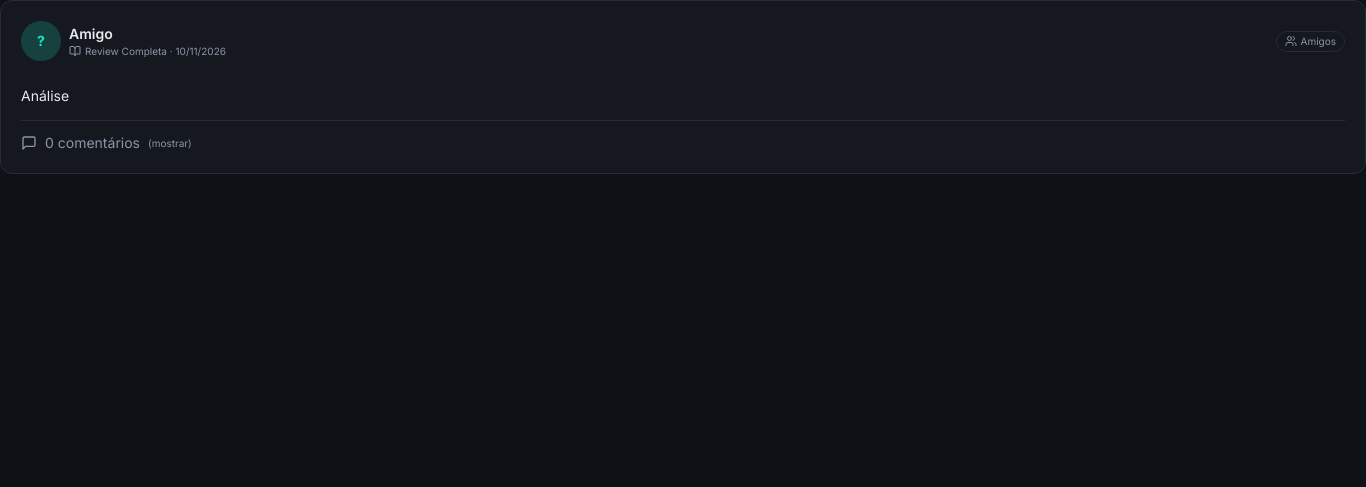
Test: complete-review reply targets › writes replies to the complete review and reloads the nested reply
Click the button "0 comentários (mostrar)" at [106, 143], box [21, 133, 192, 153]
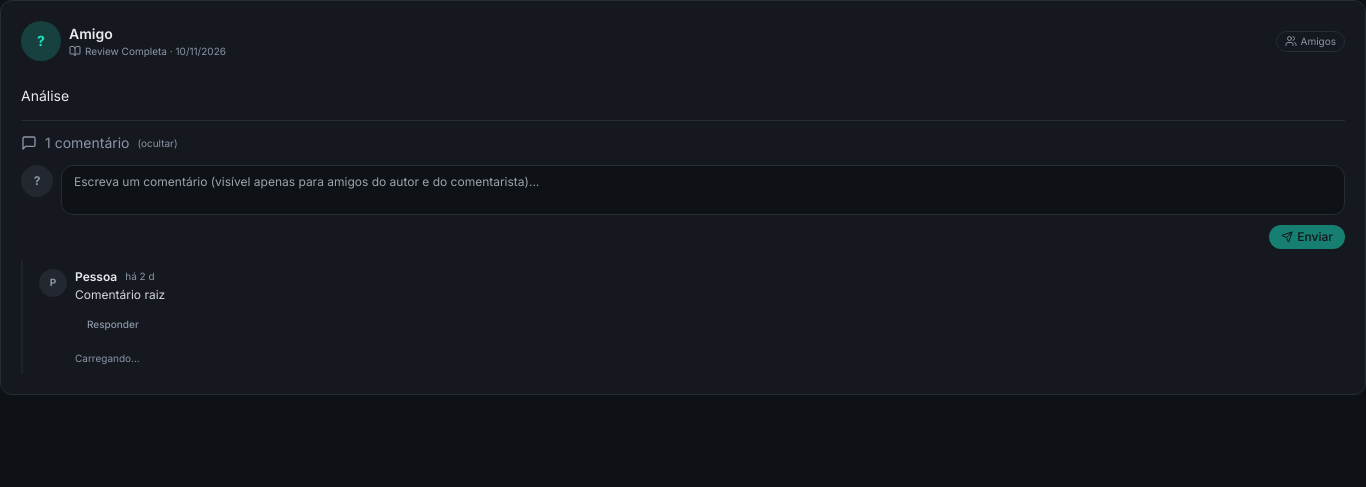
Expected: the text "Comentário raiz" is shown, [75, 287, 165, 302]
Click the button "Responder" at [113, 325], box [75, 307, 151, 343]
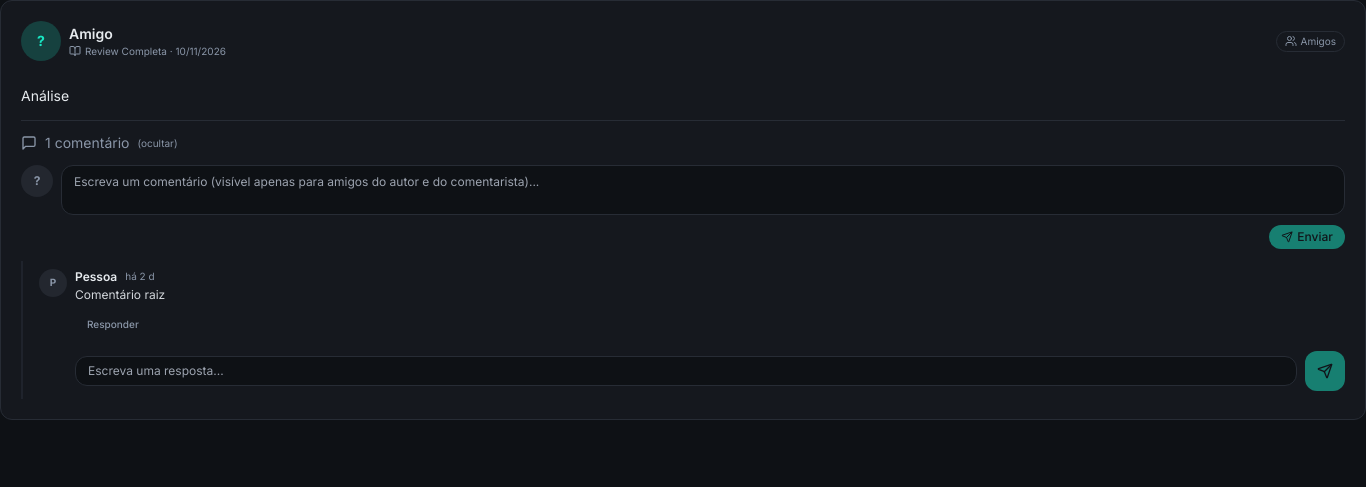
Type "Resposta persistida" into the field with placeholder "Escreva uma resposta..." at [686, 371], box [75, 356, 1297, 386]
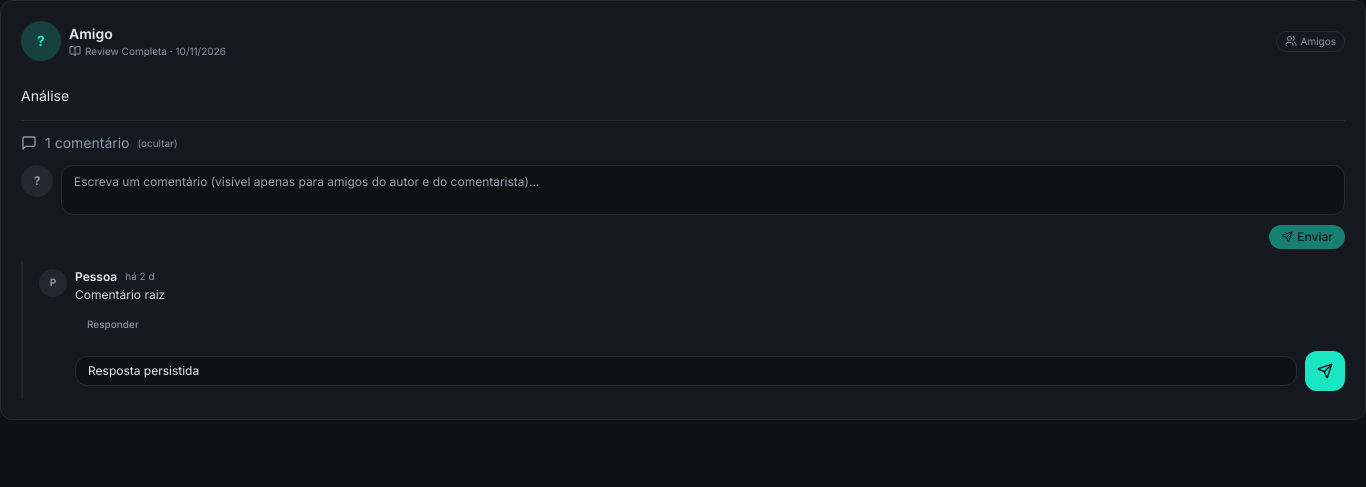
Click the button named "Enviar resposta" at [1325, 371], box [1305, 351, 1345, 391]
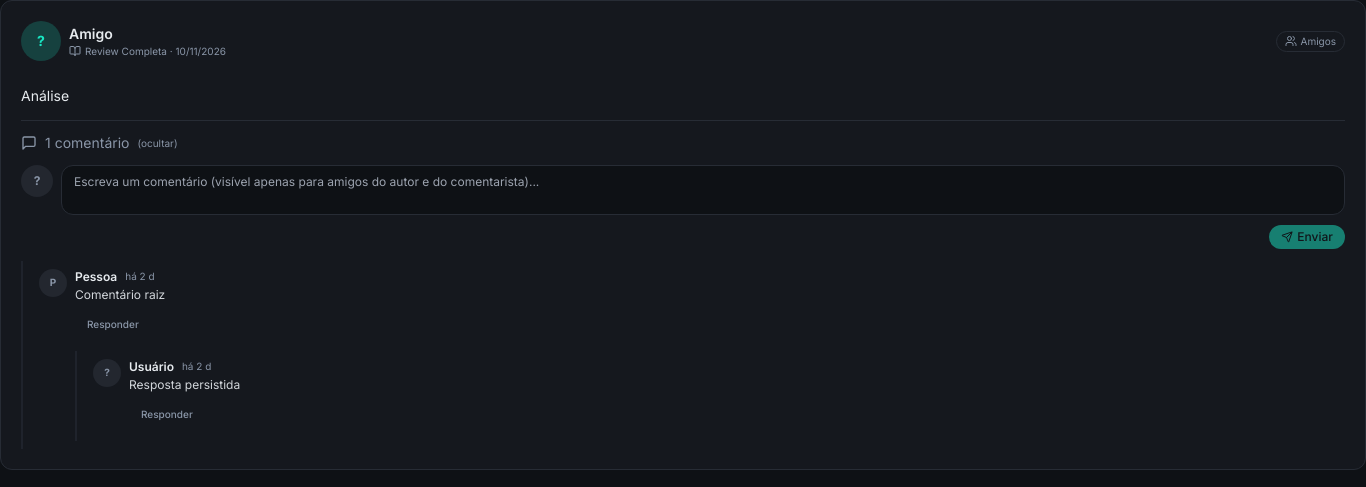
Expected: the text "Resposta persistida" is shown, [129, 377, 240, 392]
